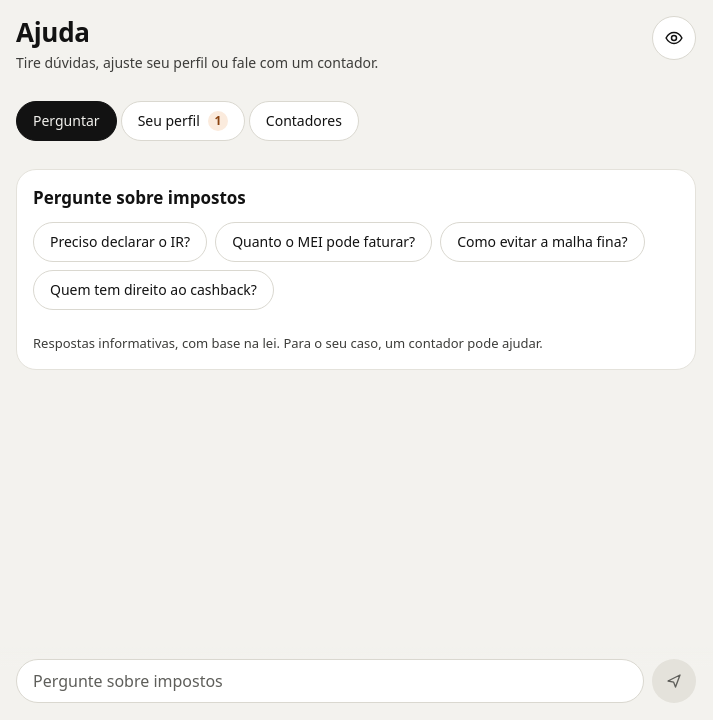
Scenario: Ajuda › assistente responde com fontes a partir de uma sugestão
Click the button "Quanto o MEI pode faturar?" at (324, 242), box x1=215 y1=222 x2=432 y2=262
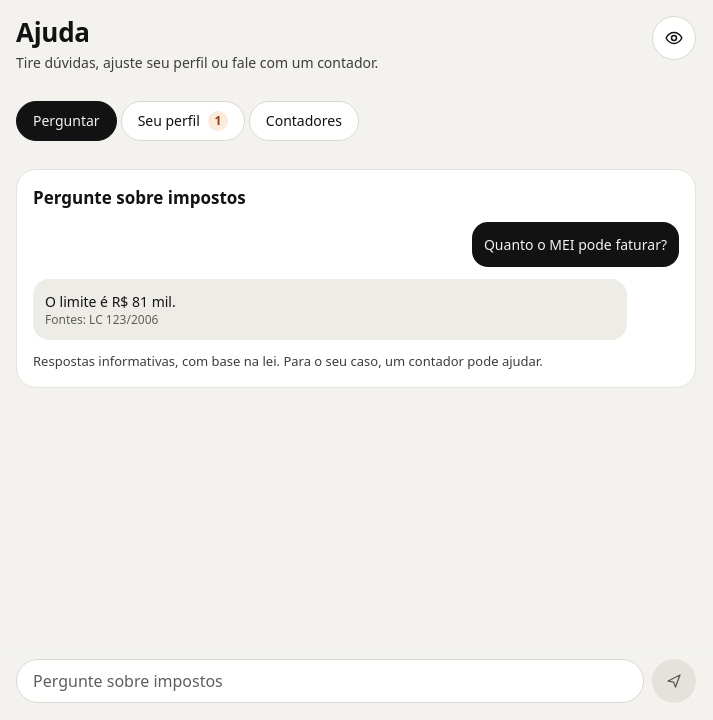
Result: the text "O limite é R$ 81 mil." is shown at x1=45 y1=292 x2=176 y2=311
Result: the text "Fontes: LC 123/2006" is shown at x1=45 y1=311 x2=158 y2=328
